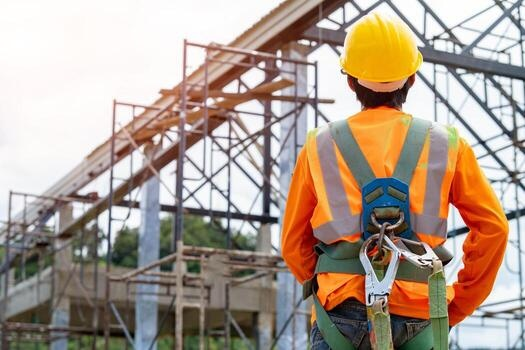Helmet: (340, 16, 422, 81)
Person: (300, 12, 459, 346)
Safety_Harness: (309, 115, 450, 350)
